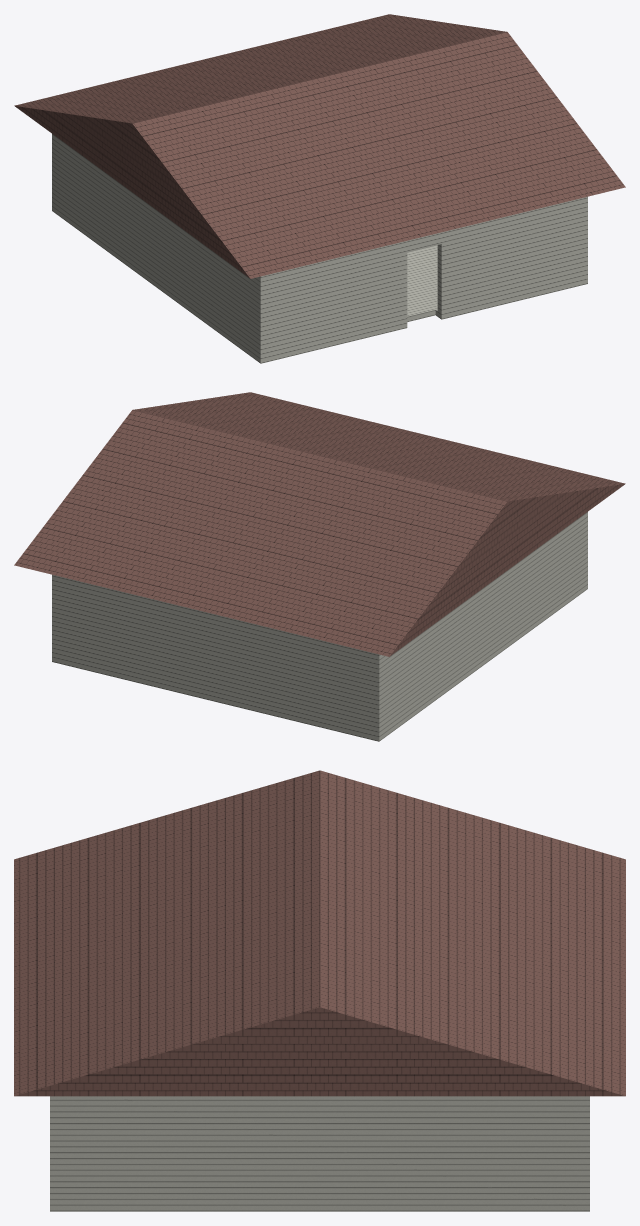
The model's file is bungalow_craftsman.glb.
3 views of the same model, one above another, from view 1: azimuth 30°, elevation 25°; view 2: azimuth 150°, elevation 25°; view 3: azimuth 270°, elevation 25° (orthographic). The views are drawn at different scales.
Visible parts, largest first — view 1: bungalow_craftsman-col; view 2: bungalow_craftsman-col; view 3: bungalow_craftsman-col.
Boxes of the visible parts, left/top/right/bottom form: bungalow_craftsman-col: left=14, top=14, right=625, bottom=363; bungalow_craftsman-col: left=14, top=392, right=625, bottom=741; bungalow_craftsman-col: left=14, top=770, right=625, bottom=1211.
Bounding box in the file's own units: 10.9 × 4.71 × 11.9.
2 materials, 2 textured.
